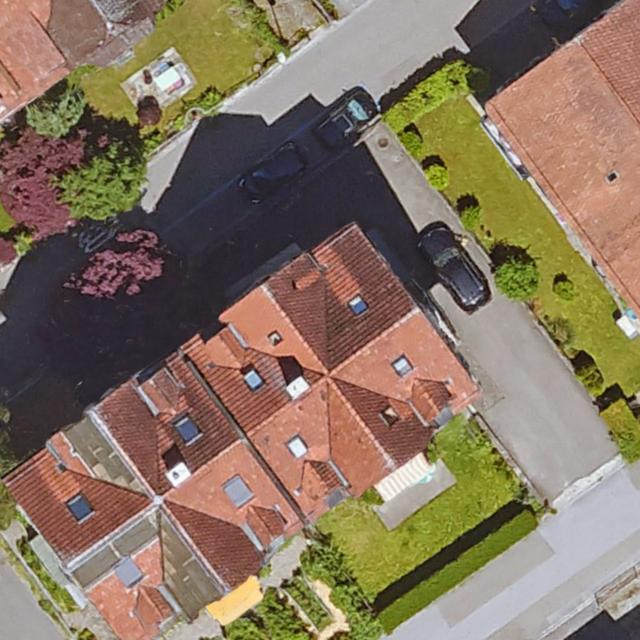tree: (50, 225, 172, 368), (0, 118, 89, 232), (64, 134, 142, 222)
